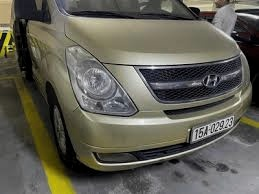Bien-so: (196, 113, 237, 142)
